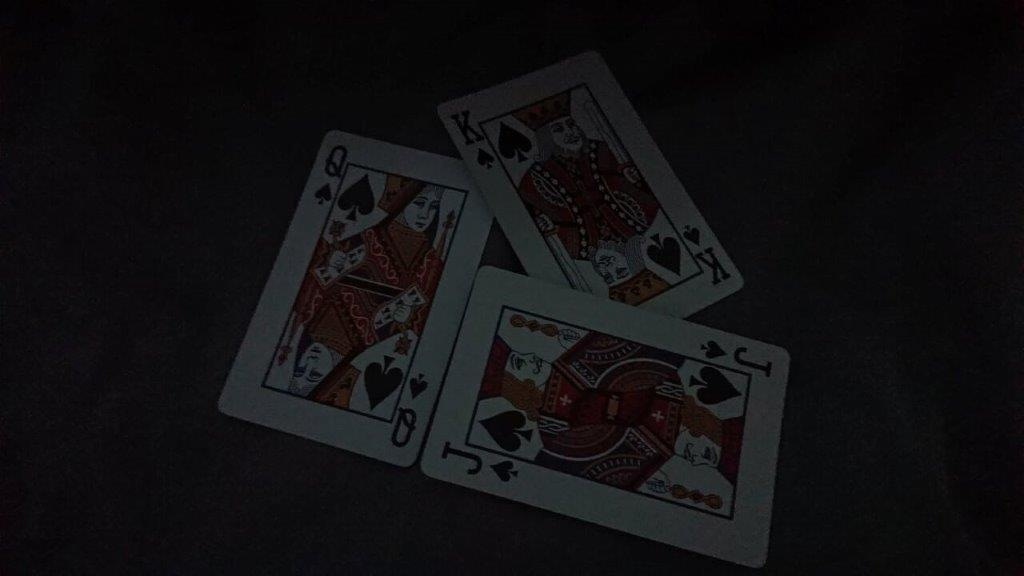KS: (446, 101, 502, 180)
QS: (309, 139, 357, 213)
